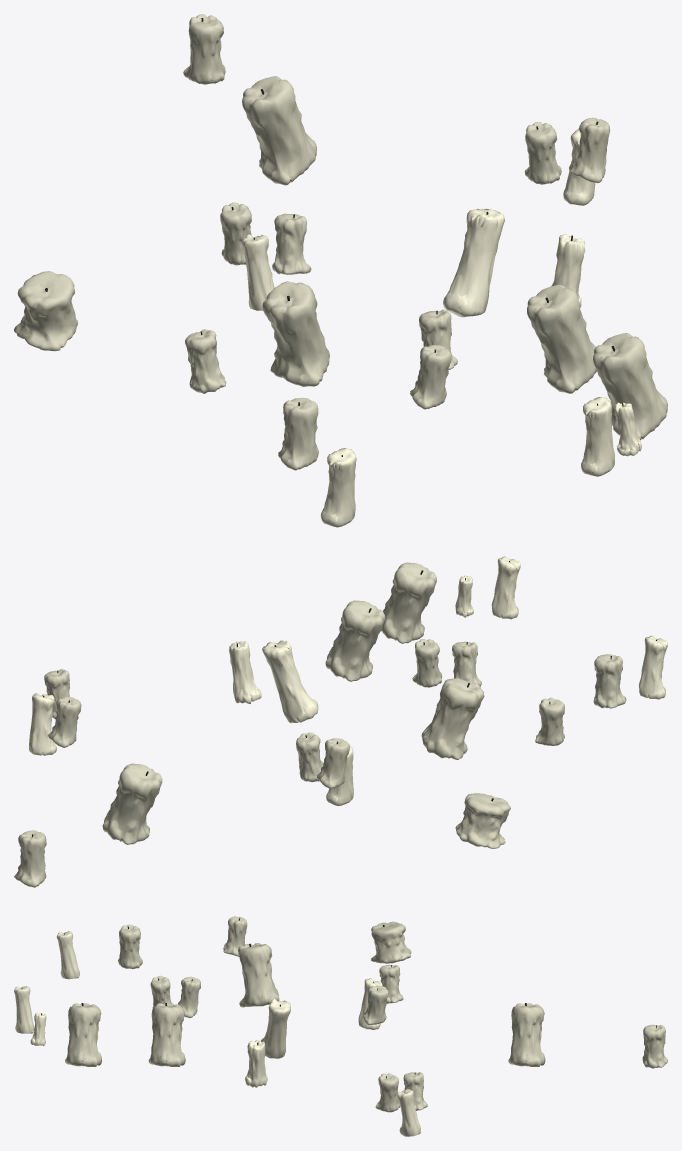
Rendered from CANDLESATO2.fbx.
3 views of the same model, one above another, from view 1: azimuth 30°, elevation 25°; view 2: azimuth 150°, elevation 25°; view 3: azimuth 270°, elevation 25° (orthographic). The views are drawn at different scales.
Parts seen in each view (by area): view 1: CANDLEBIG1.036, CANDLEBIG1.027, CANDLEBIG1.117, CANDLEBIG1.100, CANDLEBIGTALL3.015, CANDLEBIG1.028, CANDLEBIG1.025, CANDLEBIG1.057, CANDLEBIGTALL3.013, CANDLEBIGTALL3.014, CANDLEBIG1.024, CANDLEBIG1.118 (+9 smaller); view 2: CANDLEBIG1.117, CANDLEBIG1.027, CANDLEBIG1.036, CANDLEBIG1.100, CANDLEBIGTALL3.015, CANDLEBIG1.028, CANDLEBIG1.057, CANDLEBIG1.025, CANDLEBIGTALL3.013, CANDLEBIGTALL3.054, CANDLEBIGTALL3.014, CANDLEBIG4.026 (+9 smaller); view 3: CANDLEBIG1.117, CANDLEBIG1.100, CANDLEBIG1.036, CANDLEBIG1.027, CANDLEBIG1.028, CANDLEBIGTALL3.015, CANDLEBIG1.057, CANDLEBIG1.025, CANDLEBIG4.026, CANDLEBIGTALL3.054, CANDLEBIGTALL3.014, CANDLEBIGTALL3.013 (+9 smaller).
Boxes of the visible parts, x1,y1,x2,y2 form: CANDLEBIG1.036: (242,76,316,185); CANDLEBIG1.027: (527,284,597,393); CANDLEBIG1.117: (262,281,329,386); CANDLEBIG1.100: (593,333,667,439); CANDLEBIGTALL3.015: (443,208,504,317); CANDLEBIG1.028: (14,271,78,351); CANDLEBIG1.025: (278,397,318,470); CANDLEBIG1.057: (183,14,225,84); CANDLEBIGTALL3.013: (320,448,356,527); CANDLEBIGTALL3.014: (581,397,614,476); CANDLEBIG1.024: (410,345,451,409); CANDLEBIG1.118: (185,329,226,393); CANDLEBIG1.117: (421,678,484,759); CANDLEBIG1.027: (325,600,385,681); CANDLEBIG1.036: (102,763,162,844); CANDLEBIG1.100: (381,562,436,643); CANDLEBIGTALL3.015: (262,640,318,723); CANDLEBIG1.028: (455,793,510,848); CANDLEBIG1.057: (14,830,46,887); CANDLEBIG1.025: (593,654,626,708); CANDLEBIGTALL3.013: (638,635,667,699); CANDLEBIGTALL3.054: (29,693,56,755); CANDLEBIGTALL3.014: (491,556,520,619); CANDLEBIG4.026: (229,641,261,703); CANDLEBIG1.117: (238,943,279,1007); CANDLEBIG1.100: (65,1003,101,1066); CANDLEBIG1.036: (508,1003,545,1066); CANDLEBIG1.027: (148,1003,185,1066); CANDLEBIG1.028: (371,921,411,963); CANDLEBIGTALL3.015: (261,999,290,1058); CANDLEBIG1.057: (642,1024,667,1068); CANDLEBIG1.025: (118,924,142,969); CANDLEBIG4.026: (245,1040,267,1087); CANDLEBIGTALL3.054: (397,1089,420,1136); CANDLEBIGTALL3.014: (14,986,34,1033); CANDLEBIGTALL3.013: (56,931,79,979).
Bounding box in the file's own units: 5926 × 1121 × 9004.
